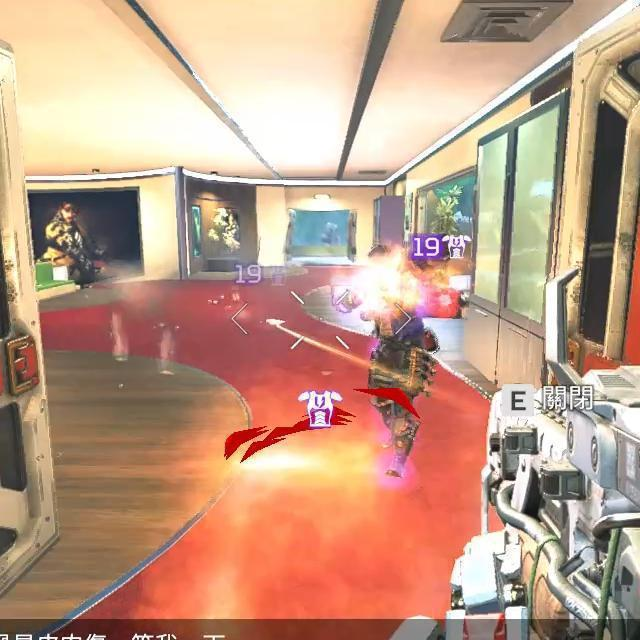avatar: (353, 241, 442, 481)
